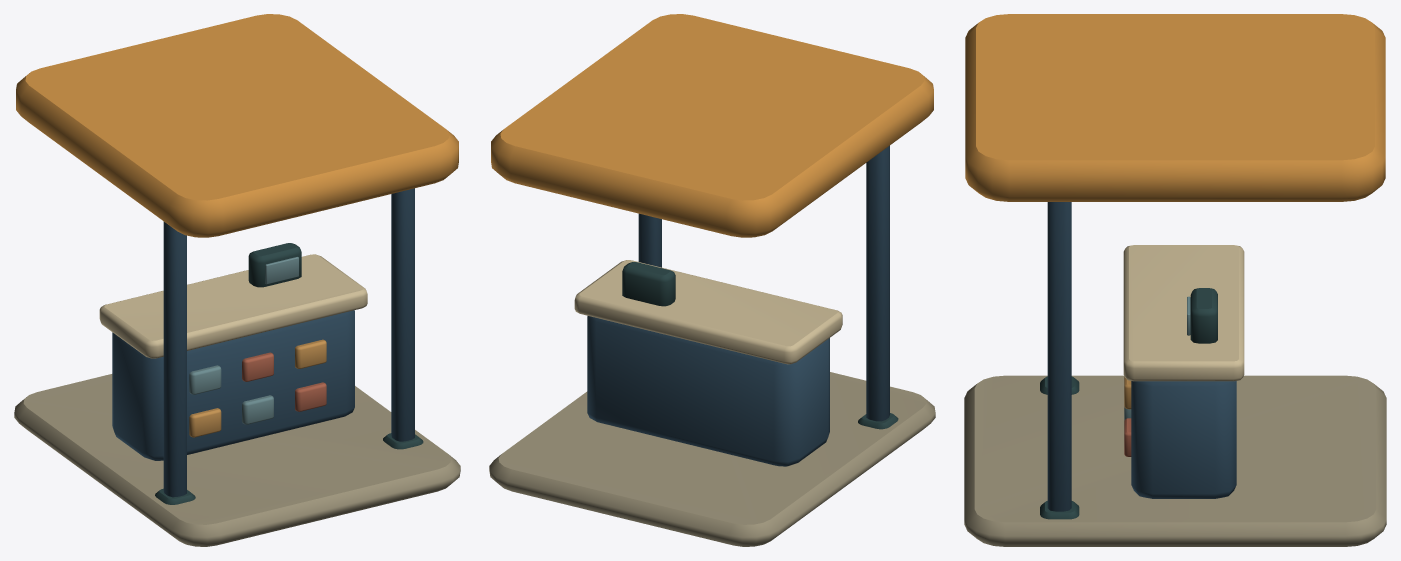
The model's file is alpine_restaurant_2.glb.
3 views of the same model, side by side, from view 1: azimuth 30°, elevation 25°; view 2: azimuth 150°, elevation 25°; view 3: azimuth 270°, elevation 25° (orthographic). The views are drawn at different scales.
Visible parts, largest first — view 1: Restaurant2; view 2: Restaurant2; view 3: Restaurant2.
Boxes of the visible parts, <box> form: Restaurant2: <box>14,14,460,546</box>; Restaurant2: <box>489,14,935,546</box>; Restaurant2: <box>964,14,1386,546</box>.
Size of the model in its own units: 2.16 by 2.51 by 2.48.
